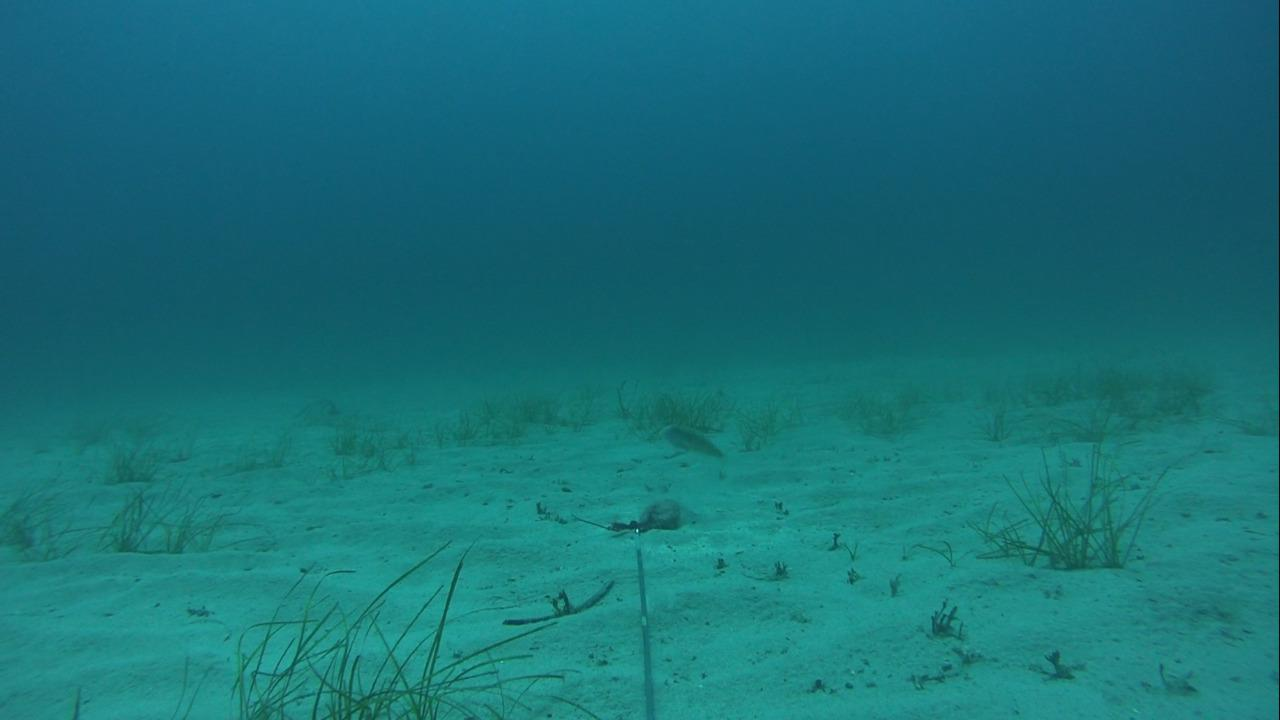raor: (656, 419, 730, 467)
